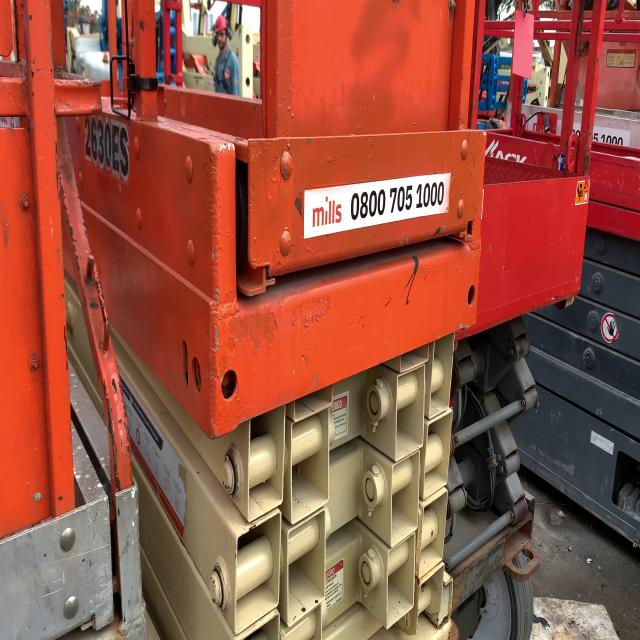Adesivo Longo: (302, 169, 453, 244)
